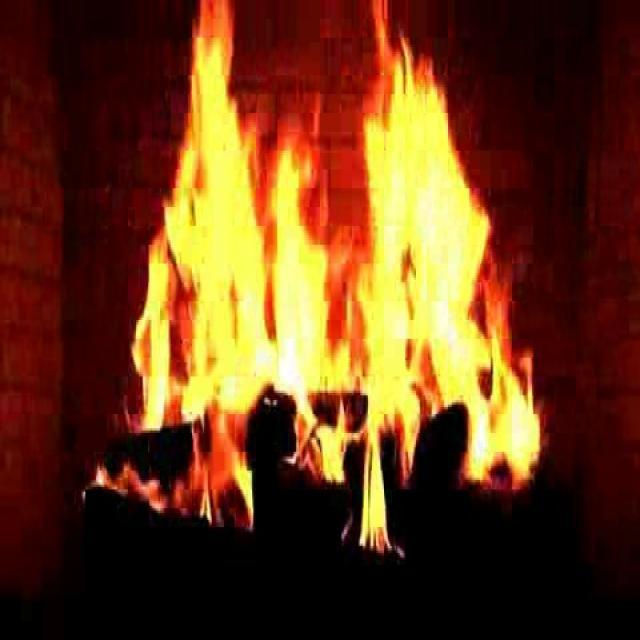Fire: (145, 70, 529, 560)
